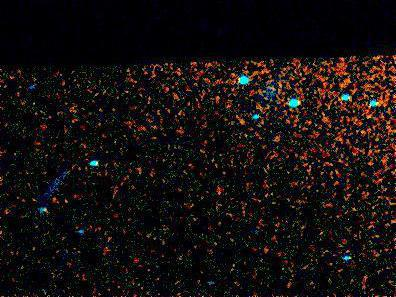star: (49, 190, 79, 220)
